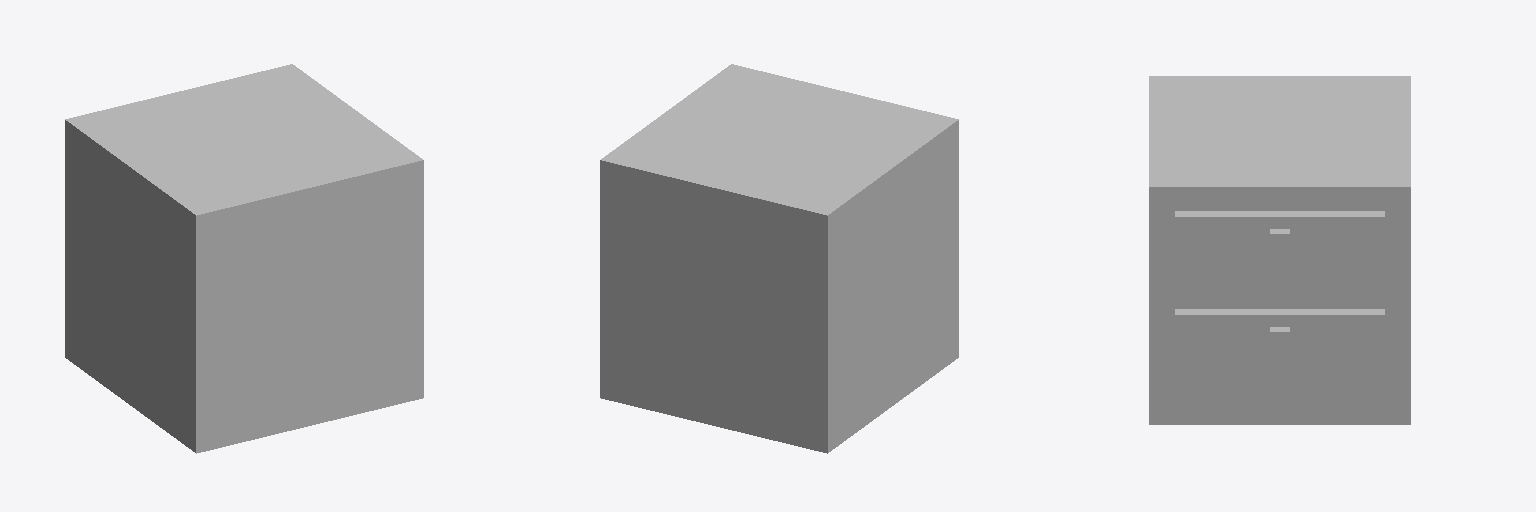
The model's file is DebsideTable.obj.
3 renders of one model, left to right at view 1: azimuth 30°, elevation 25°; view 2: azimuth 150°, elevation 25°; view 3: azimuth 270°, elevation 25°, orthographic.
Visible parts, largest first — view 1: BedsideTable; view 2: BedsideTable; view 3: BedsideTable.
Boxes of the visible parts, box(x1,y1,x2,y2) form: BedsideTable: box(65, 64, 423, 453); BedsideTable: box(600, 64, 958, 453); BedsideTable: box(1149, 76, 1410, 424).
Size of the model in its own units: 1.1 by 1 by 1.